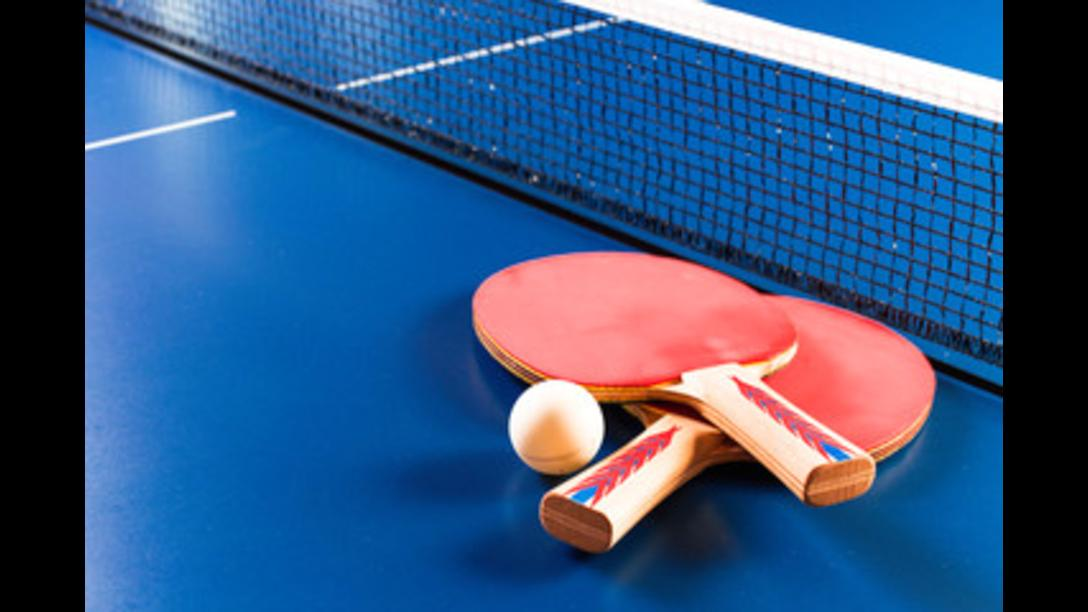Table-Tennis-Ball: (512, 380, 602, 472)
